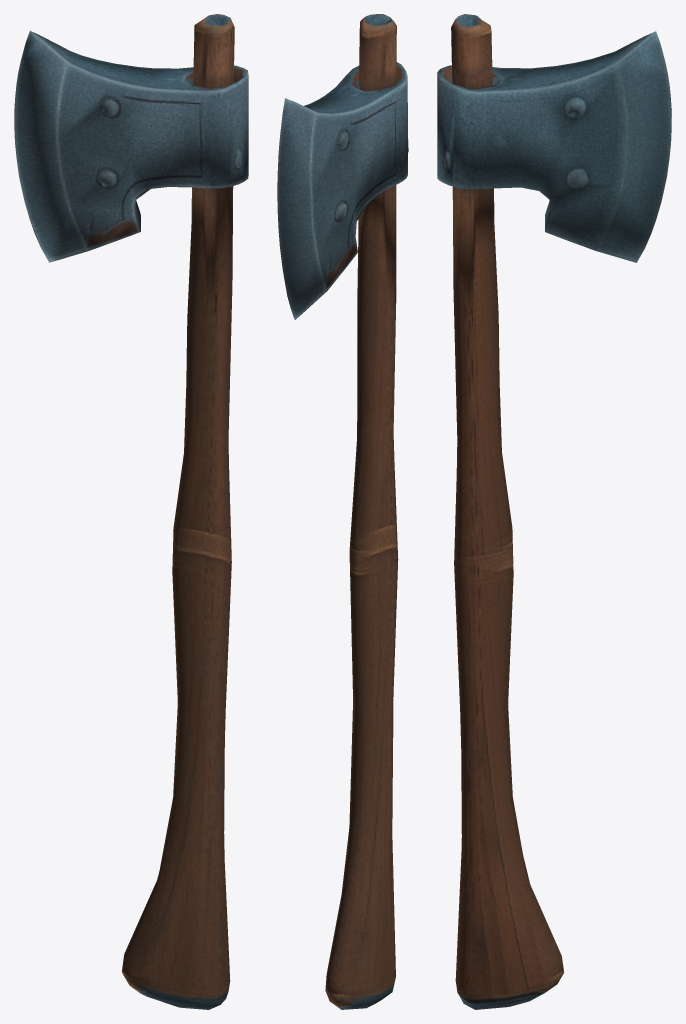
File: axe-2.glb
The picture shows the model from 3 angles, left to right: view 1: azimuth 90°, elevation 25°; view 2: azimuth 150°, elevation 25°; view 3: azimuth 270°, elevation 25°; orthographic projection.
Visible parts, largest first — view 1: Meshy_local_bake_axe-2; view 2: Meshy_local_bake_axe-2; view 3: Meshy_local_bake_axe-2.
Boxes of the visible parts, x1,y1,x2,y2 form: Meshy_local_bake_axe-2: (14, 14, 248, 1009); Meshy_local_bake_axe-2: (277, 14, 408, 1009); Meshy_local_bake_axe-2: (437, 14, 671, 1009).
Size of the model in its own units: 0.05 by 0.86 by 0.185.
Materials: 1 (1 with a texture image).
